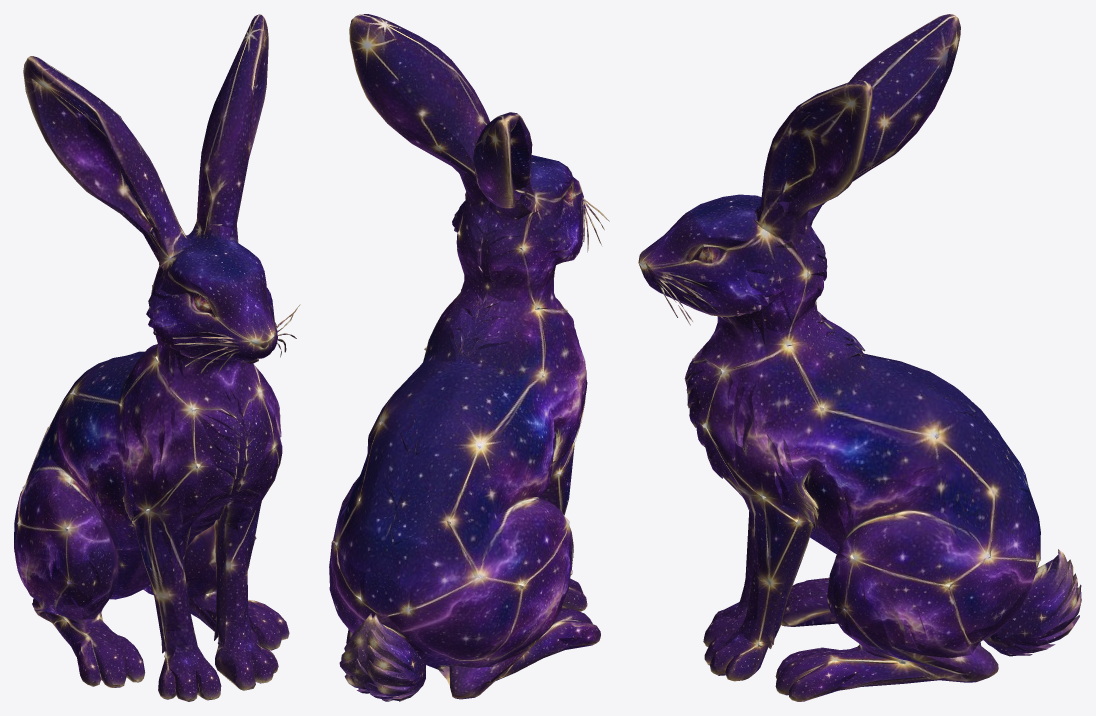
Rendered from hare.glb.
3 renders of one model, left to right at view 1: azimuth 30°, elevation 25°; view 2: azimuth 150°, elevation 25°; view 3: azimuth 270°, elevation 25°, orthographic. The views are drawn at different scales.
Size of the model in its own units: 0.743 by 1.9 by 1.22.
Materials: 1 (1 with a texture image).
